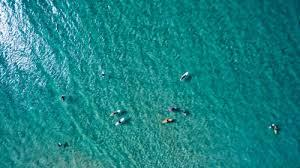swimmer: (179, 70, 192, 83), (109, 108, 124, 119), (268, 123, 280, 135), (161, 116, 174, 125), (114, 117, 126, 126), (166, 107, 180, 113), (181, 112, 191, 119), (57, 142, 63, 149), (60, 96, 66, 102), (180, 75, 187, 80), (118, 120, 123, 125), (112, 112, 118, 115)
